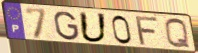0: (111, 14, 134, 46)
7: (25, 7, 49, 41)
F: (134, 16, 161, 47)
G: (53, 10, 81, 42)
Q: (163, 17, 192, 50)
U: (78, 11, 109, 44)
